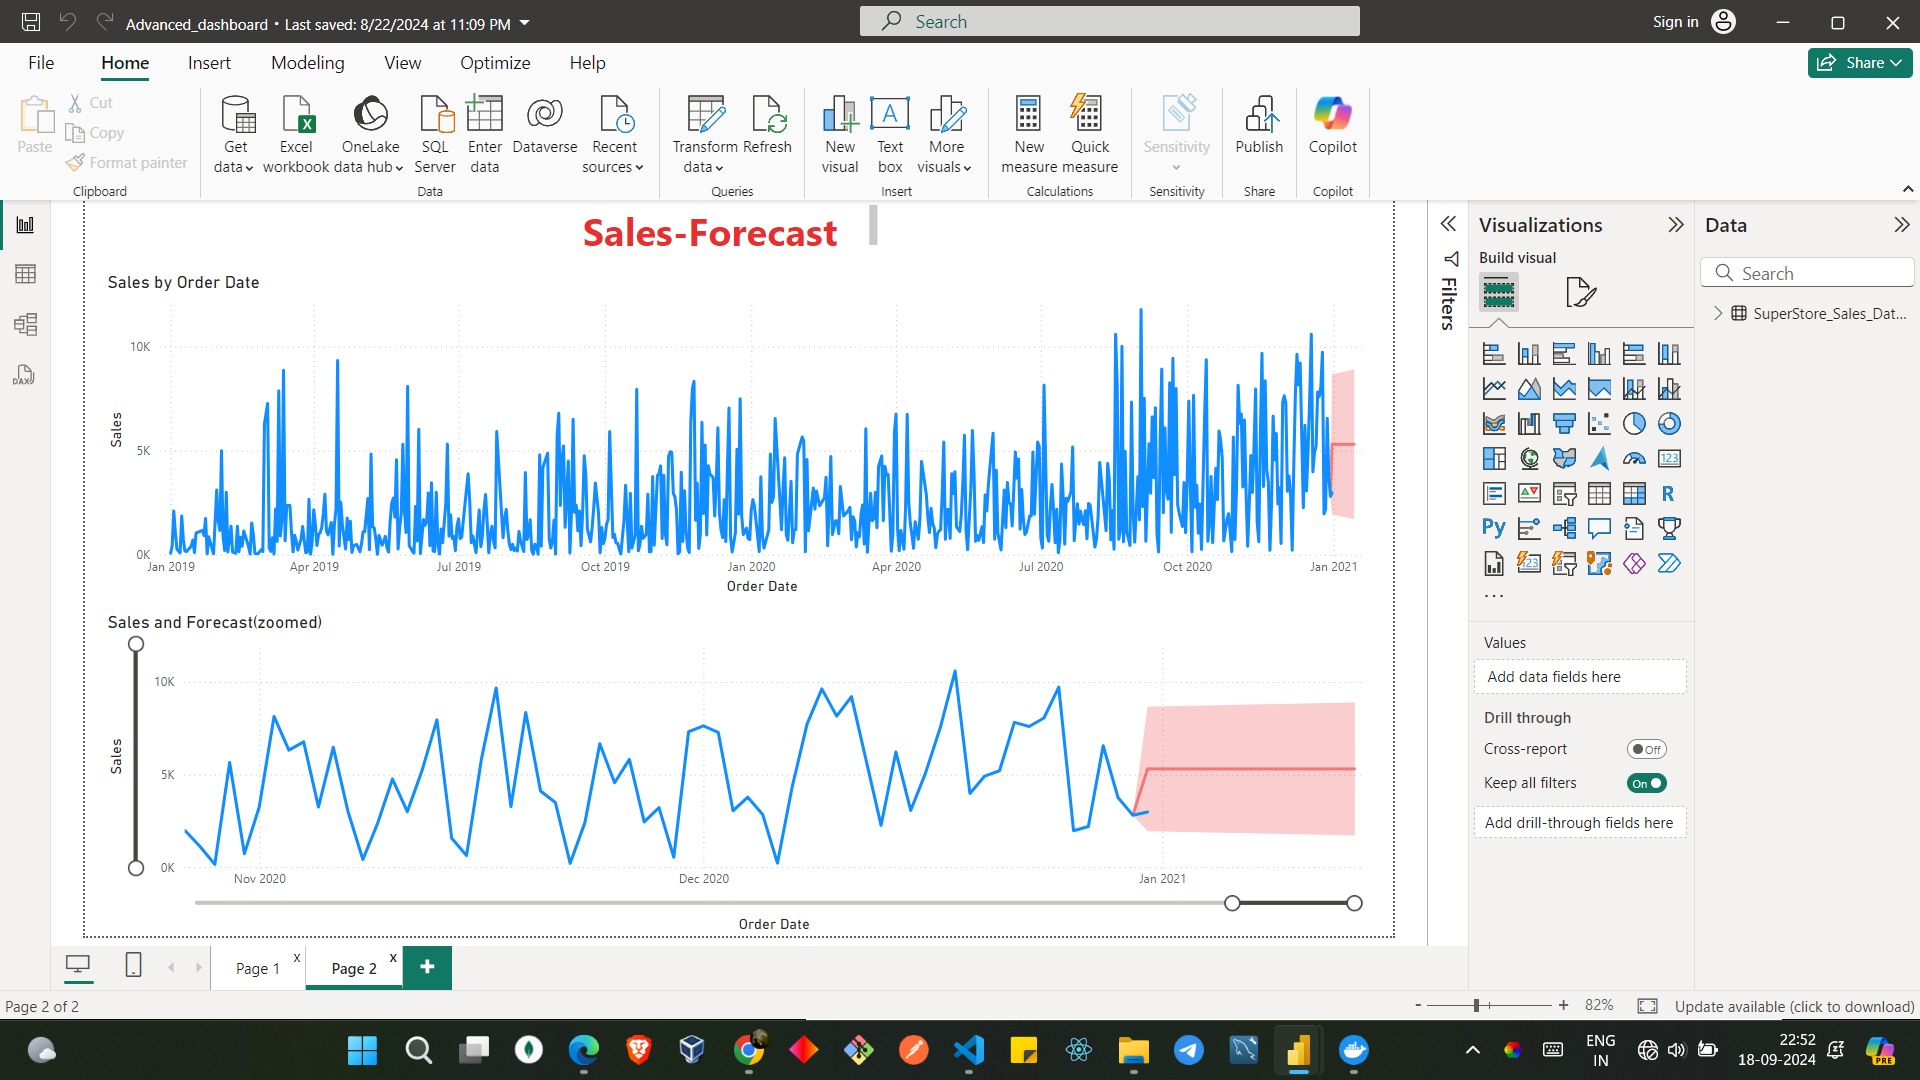

Layout of this report page (visuals, bound fields, positions):
{"tool":"powerbi","page":{"name":"Page 2","canvas":[1280,720],"ordinal":1},"visuals":[{"type":"lineChart","fields":{"Y":["Sum(SuperStore_Sales_Dataset.Sales)"],"Category":["SuperStore_Sales_Dataset.Order Date"]},"box":[17.5,70,1253.8,321.2],"z":0},{"type":"lineChart","title":"Sales and Forecast(zoomed)","fields":{"Y":["Sum(SuperStore_Sales_Dataset.Sales)"],"Category":["SuperStore_Sales_Dataset.Order Date"]},"box":[17.5,402.5,1253.8,317.5],"z":1000},{"type":"textbox","box":[451.2,0,328.8,53.8],"z":1002}]}

Visuals, with their boxes on the page's 1280x720 design canvas (x1, y1, x2, y2). These are canvas units, not pixel positions in the 1920x1080 screenshot, which may show the page scaled, cropped or inside an application window:
lineChart - Sum(SuperStore_Sales_Dataset.Sales) x SuperStore_Sales_Dataset.Order Date: (18, 70, 1271, 391)
"Sales and Forecast(zoomed)" lineChart: (18, 402, 1271, 720)
textbox: (451, 0, 780, 54)
